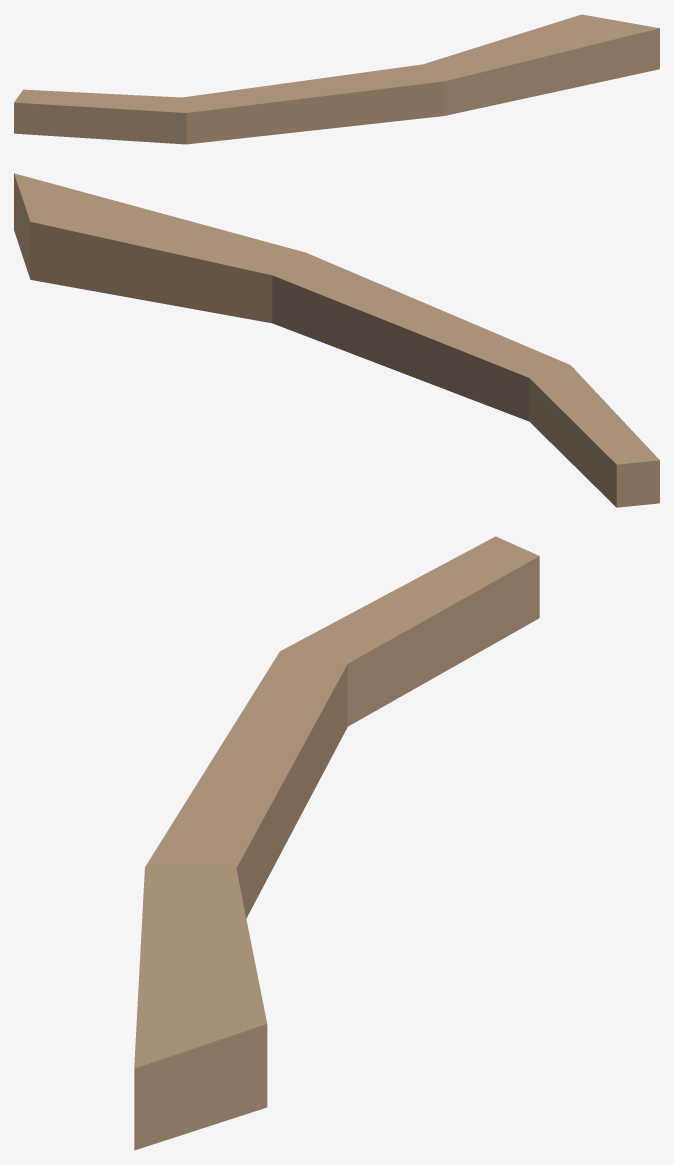
File: tomahawkBone.fbx
3 renders of one model, top to bottom at view 1: azimuth 30°, elevation 25°; view 2: azimuth 150°, elevation 25°; view 3: azimuth 270°, elevation 25°, orthographic. The views are drawn at different scales.
Visible parts, largest first — view 1: tomahawkBone; view 2: tomahawkBone; view 3: tomahawkBone.
Boxes of the visible parts, x1,y1,x2,y2 form: tomahawkBone: [14, 14, 659, 144]; tomahawkBone: [14, 173, 659, 507]; tomahawkBone: [134, 536, 539, 1150].
Size of the model in its own units: 37.1 by 2.67 by 11.73.
1 material, 1 textured.
